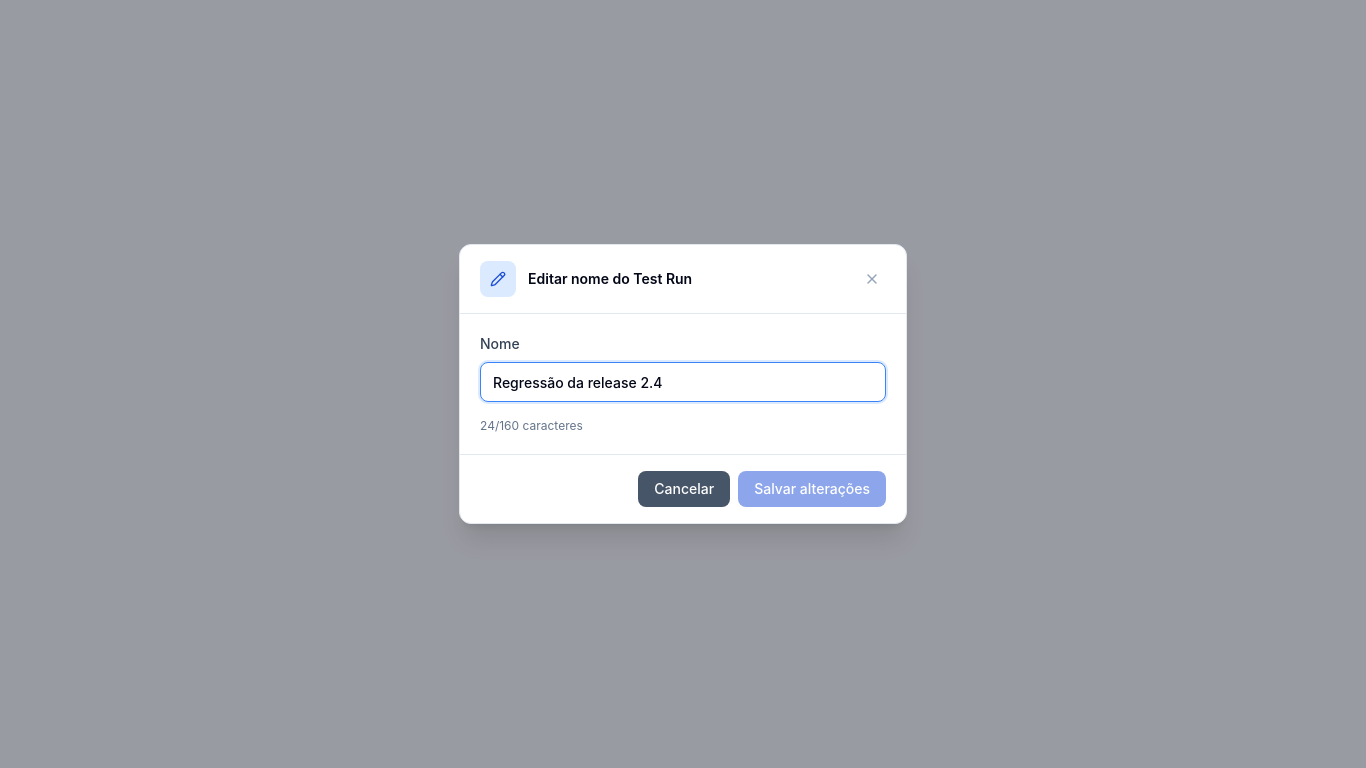
Scenario: EditTestRunNameModal › keeps the modal and typed value after a request failure
Replace the text in the field labelled "Nome" with "Nome para tentar novamente" at (683, 382), box [480,362,886,402]
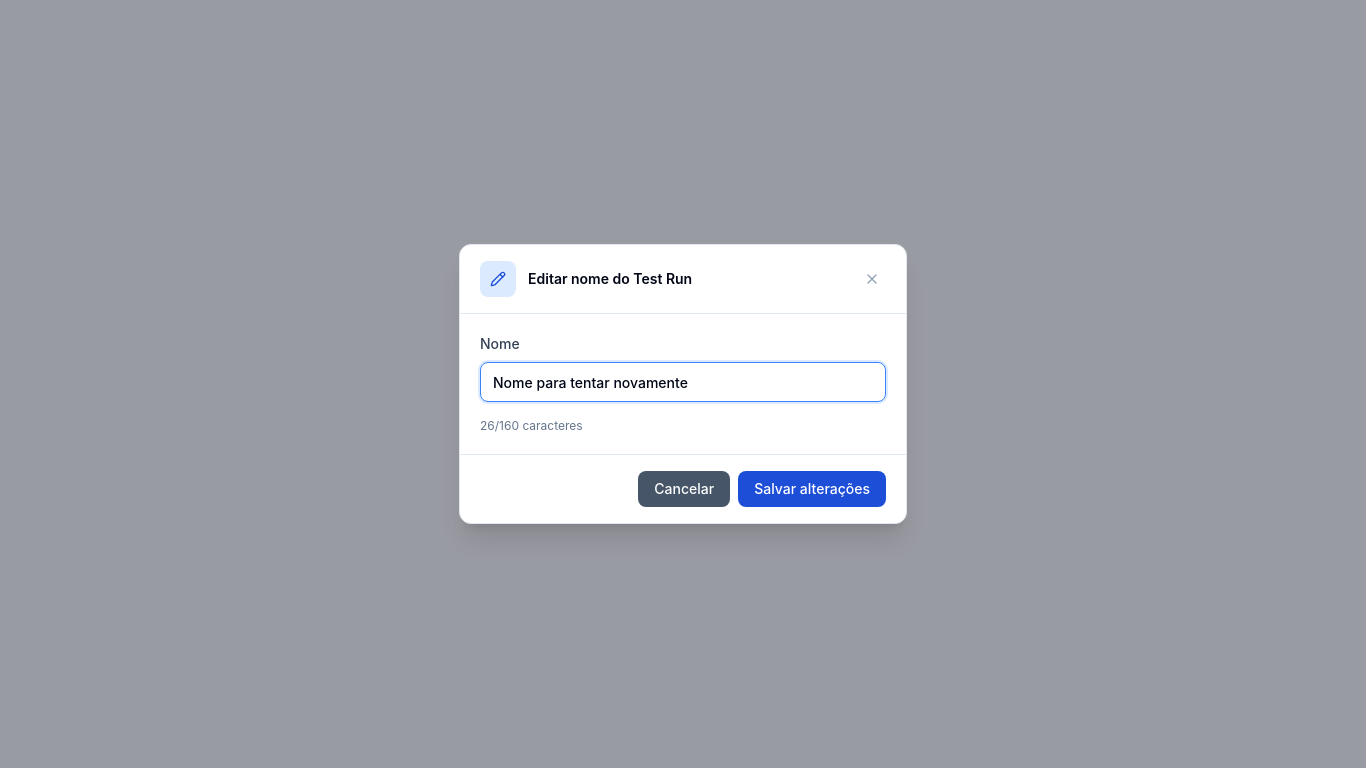
Click the button "Salvar alterações" at (812, 489), box [738,471,886,507]
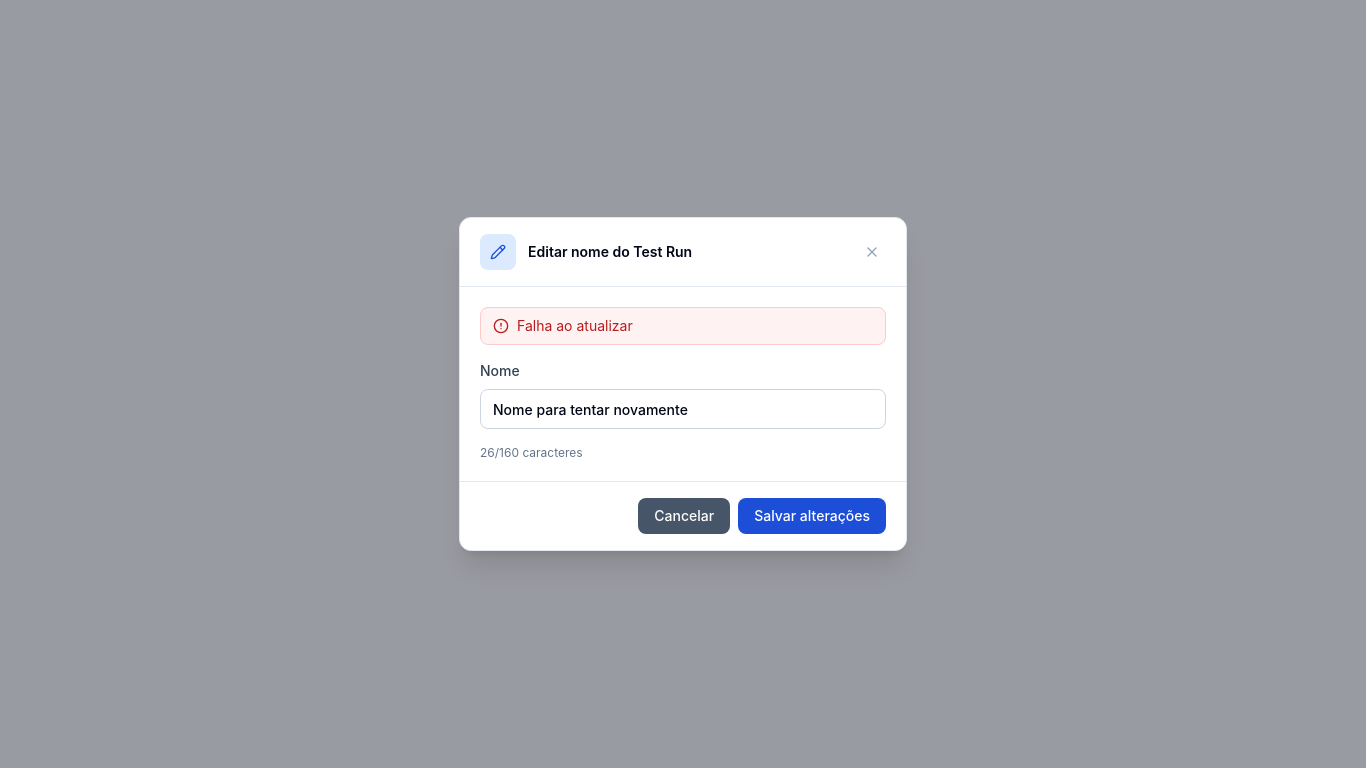
expect the dialog is shown: met, box [459,217,907,551]
expect the text "Falha ao atualizar" is shown: met, box [480,307,886,345]
